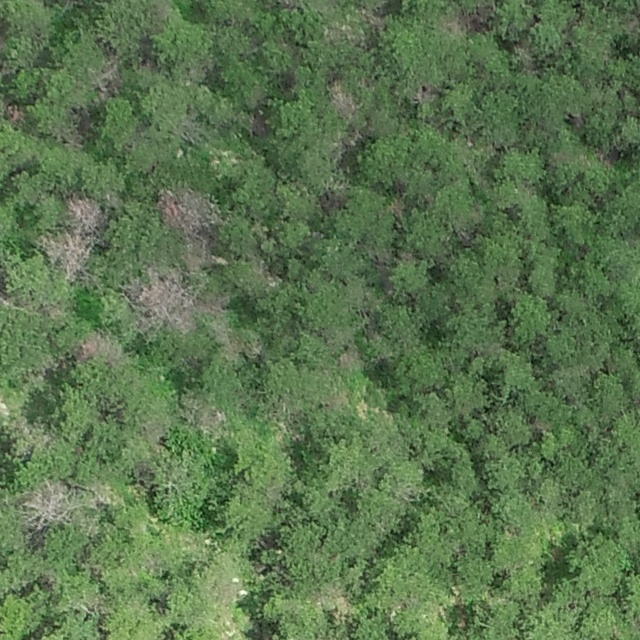unhealthy: (128, 268, 195, 332), (156, 185, 218, 251), (23, 479, 72, 528), (38, 231, 90, 277), (65, 192, 106, 231), (75, 329, 120, 362), (449, 3, 495, 35), (90, 53, 121, 98), (326, 80, 358, 119), (1, 100, 27, 126)
